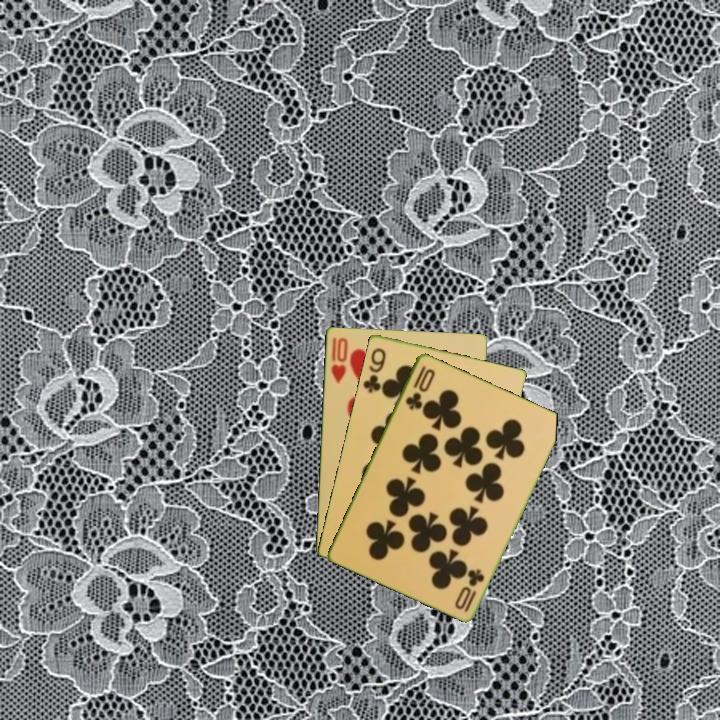10c: (402, 361, 438, 412), (460, 565, 487, 615)
10h: (327, 334, 350, 386)
9c: (359, 344, 389, 395)
